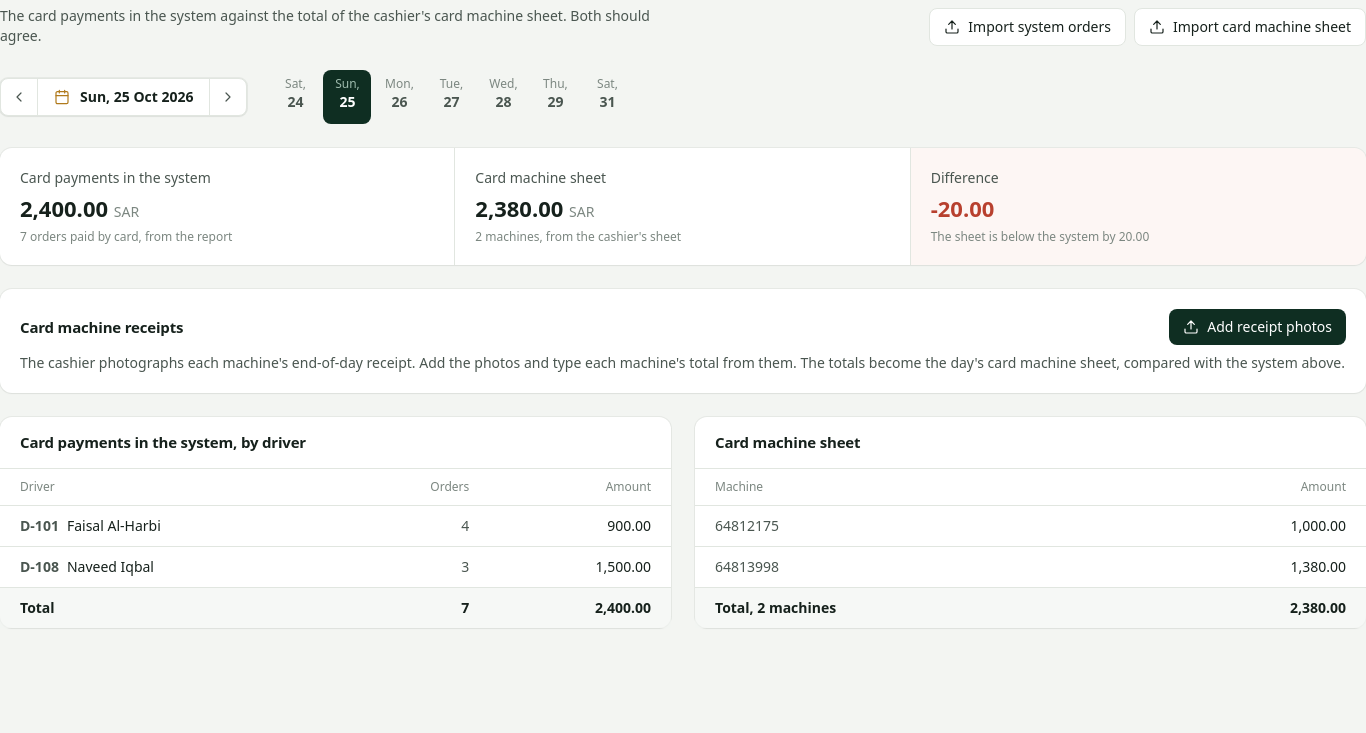
the card machine sheet is compared with the system's card payments as two totals
The image size is (1366, 733).
Expected: the text "Card payments in the system" is shown, [20,168,211,187]
Expected: the text "The sheet is below the system by 20.00" is shown, [931,228,1149,245]
Click the text "Naveed Iqbal".
click(39, 566)  # box [0,546,357,587]
(page scrolled)
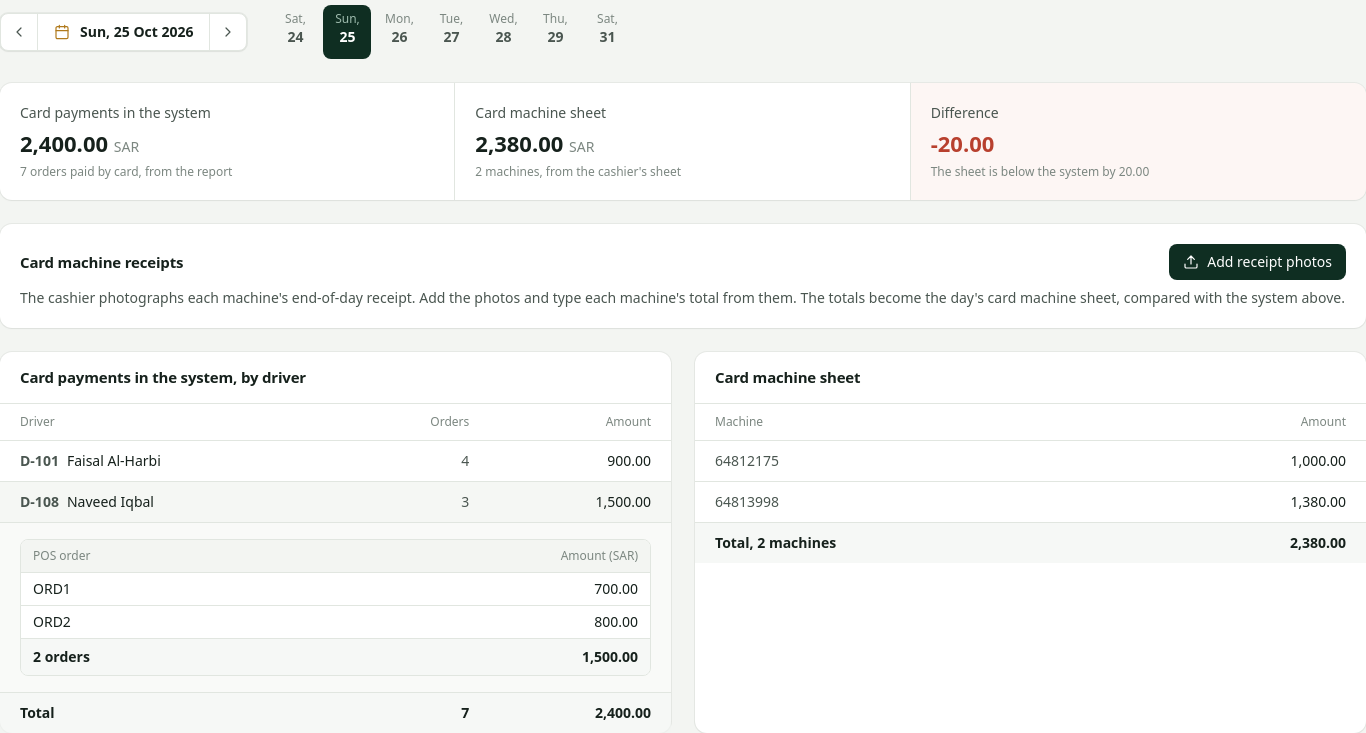
Expected: the text "2,400.00" below "800.00" is shown, [595,702,651,722]
Expected: the text "ORD2" is shown, [21,605,301,638]
